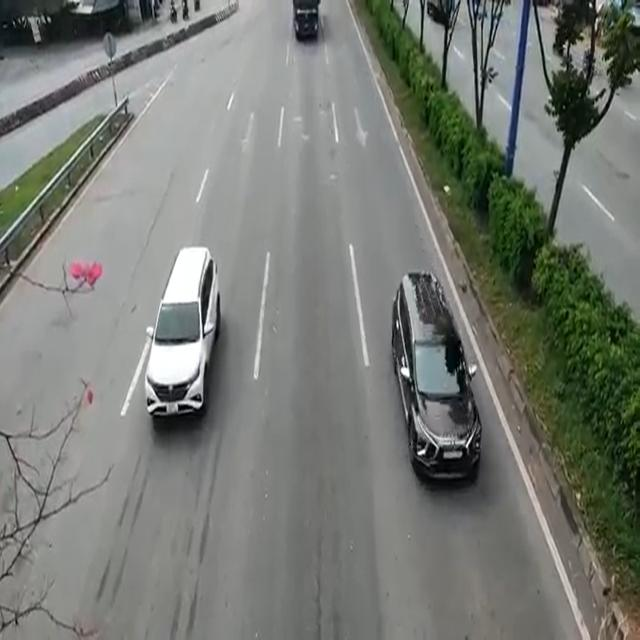car: (387, 271, 477, 476), (150, 248, 210, 424)
